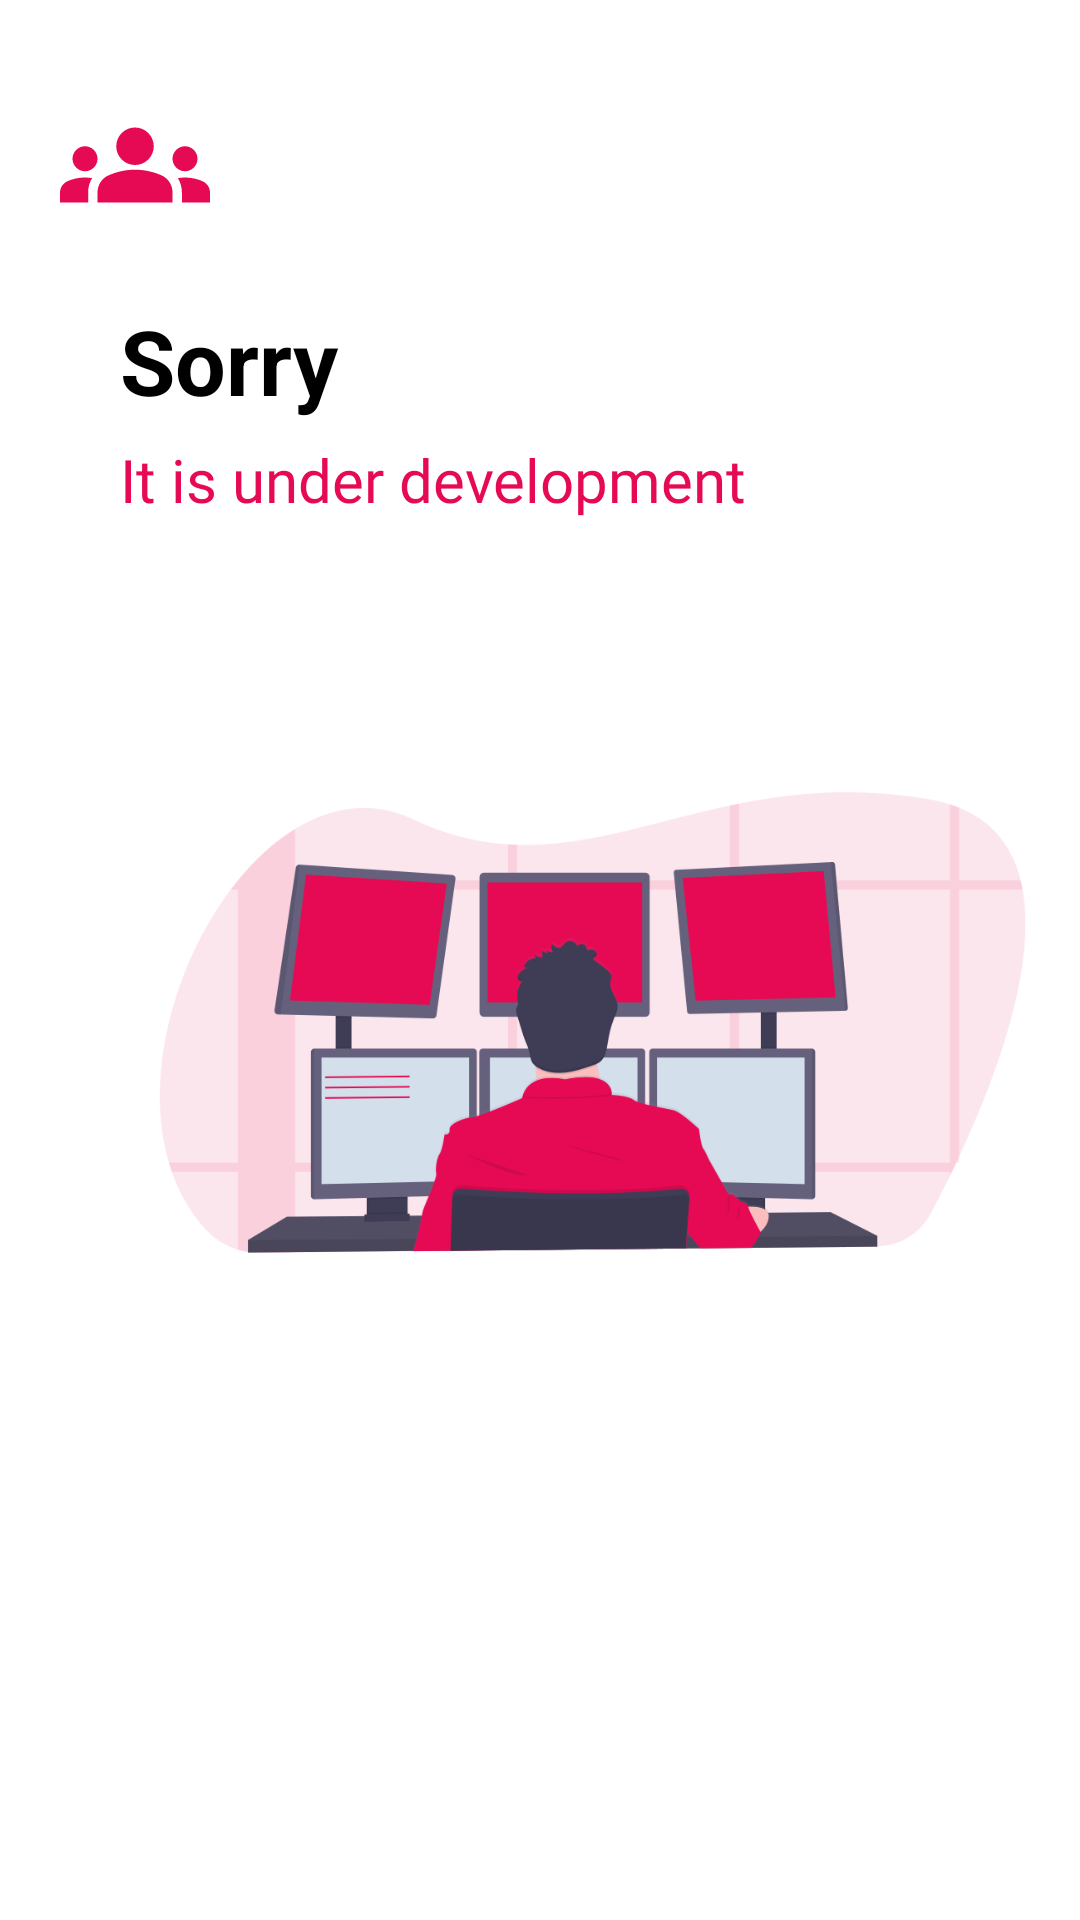

Icon click points for this 1080px x 1920px phone screenshot, format (x,y):
groups: (135,165)
